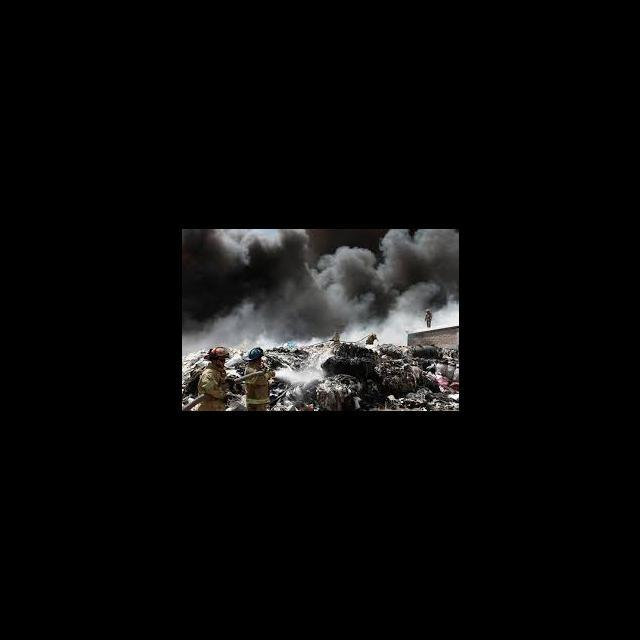Smoke: (182, 229, 458, 350)
